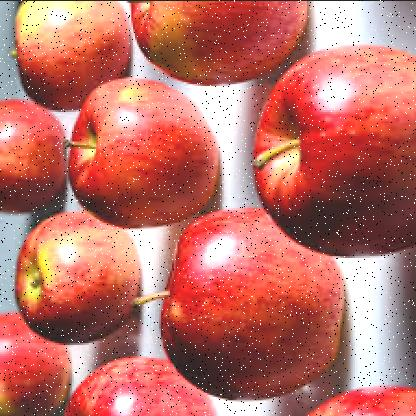apple: (168, 204, 338, 400), (262, 39, 410, 251), (74, 85, 214, 227), (16, 206, 140, 348), (134, 2, 298, 92), (11, 2, 126, 104), (2, 310, 78, 414)
